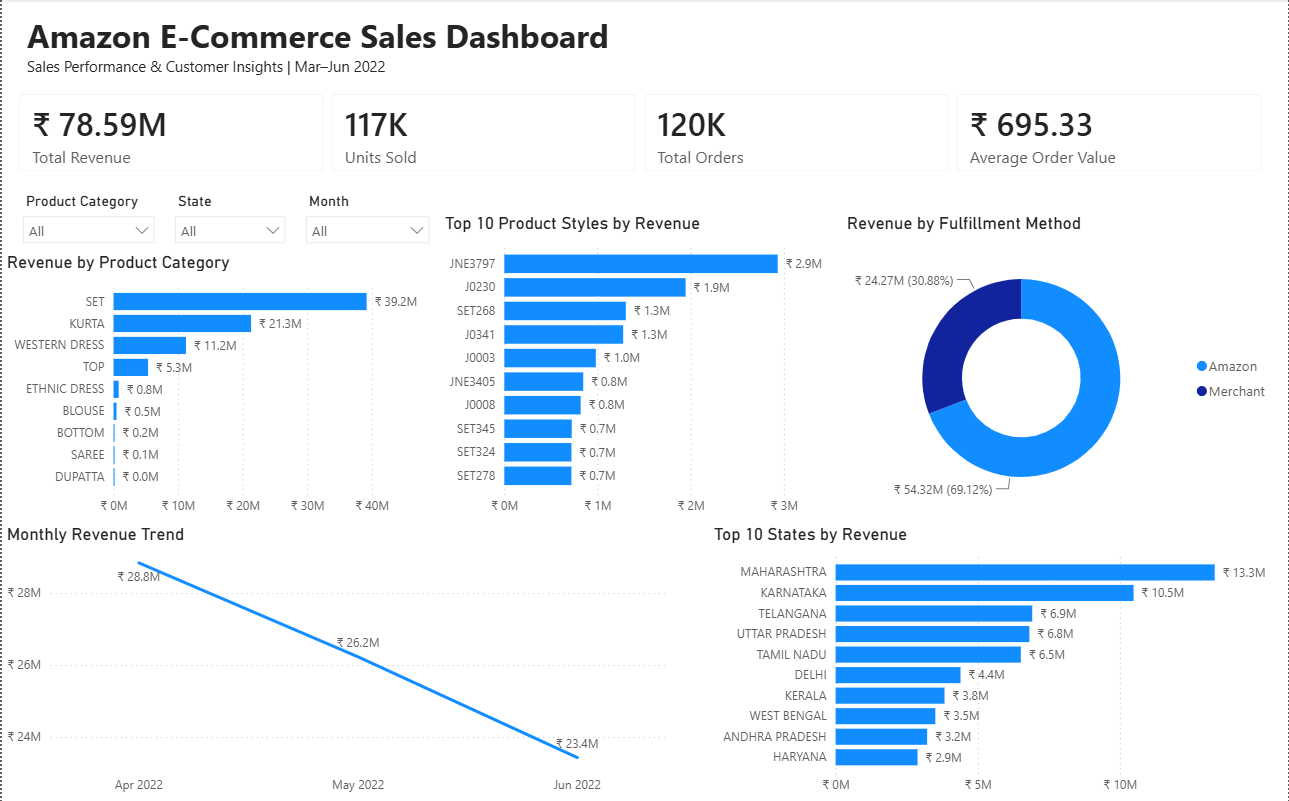

Layout of this report page (visuals, bound fields, positions):
{"tool":"powerbi","page":{"name":"Page 1","canvas":[1280,800],"ordinal":0},"visuals":[{"type":"lineChart","title":"Monthly Revenue Trend","fields":{"Y":["Amazon Sales.Total Revenue"],"Category":["Amazon Sales.Month Year"]},"box":[0,522.4,664.7,277.6],"z":0},{"type":"clusteredBarChart","title":"Revenue by Product Category","fields":{"Category":["Amazon Sales.category"],"Y":["Amazon Sales.Total Revenue"]},"box":[0,251.7,435.8,270.6],"z":1000},{"type":"clusteredBarChart","title":"Top 10 States by Revenue","fields":{"Category":["Amazon Sales.ship_state"],"Y":["Amazon Sales.Total Revenue"]},"box":[703.5,522.4,576.1,277.6],"z":2000},{"type":"clusteredBarChart","title":"Top 10 Product Styles by Revenue","fields":{"Category":["Amazon Sales.style"],"Y":["Amazon Sales.Total Revenue"]},"box":[435.8,212.9,400,309.5],"z":3000},{"type":"donutChart","title":"Revenue by Fulfillment Method","fields":{"Y":["Amazon Sales.Total Revenue"],"Category":["Amazon Sales.fulfilment_method"]},"box":[835.8,212.9,435.8,309.5],"z":5000},{"type":"cardVisual","fields":{"Data":["Amazon Sales.Total Revenue","Amazon Sales.Units Sold","Amazon Sales.Total Orders","Amazon Sales.Average Order Value"]},"box":[0,77.6,1271.6,111.4],"z":7000},{"type":"slicer","fields":{"Values":["Amazon Sales.category"]},"box":[10.9,188.1,151.2,63.7],"z":9000},{"type":"slicer","fields":{"Values":["Amazon Sales.ship_state"]},"box":[162.2,188.1,130.3,63.7],"z":10000},{"type":"slicer","fields":{"Values":["Amazon Sales.Month Year"]},"box":[292.5,188.1,143.3,63.7],"z":12000},{"type":"textbox","box":[19.9,9,658.7,75.6],"z":13000}]}

Visuals, with their boxes in screenshot pixels (x1, y1, x2, y2), scaled from the page's 1280x800 canvas onto the 1289x801 screenshot:
"Monthly Revenue Trend" lineChart: l=0, t=523, r=669, b=800
"Revenue by Product Category" clusteredBarChart: l=0, t=252, r=439, b=523
"Top 10 States by Revenue" clusteredBarChart: l=708, t=523, r=1288, b=800
"Top 10 Product Styles by Revenue" clusteredBarChart: l=439, t=213, r=842, b=523
"Revenue by Fulfillment Method" donutChart: l=842, t=213, r=1281, b=523
cardVisual - Amazon Sales.Total Revenue x Amazon Sales.Units Sold: l=0, t=78, r=1281, b=189
slicer - Amazon Sales.category: l=11, t=188, r=163, b=252
slicer - Amazon Sales.ship_state: l=163, t=188, r=295, b=252
slicer - Amazon Sales.Month Year: l=295, t=188, r=439, b=252
textbox: l=20, t=9, r=683, b=85
